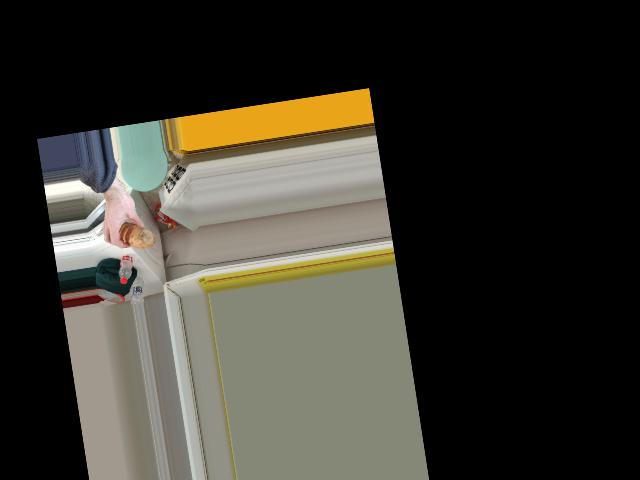sweet_potato: (116, 218, 150, 253)
